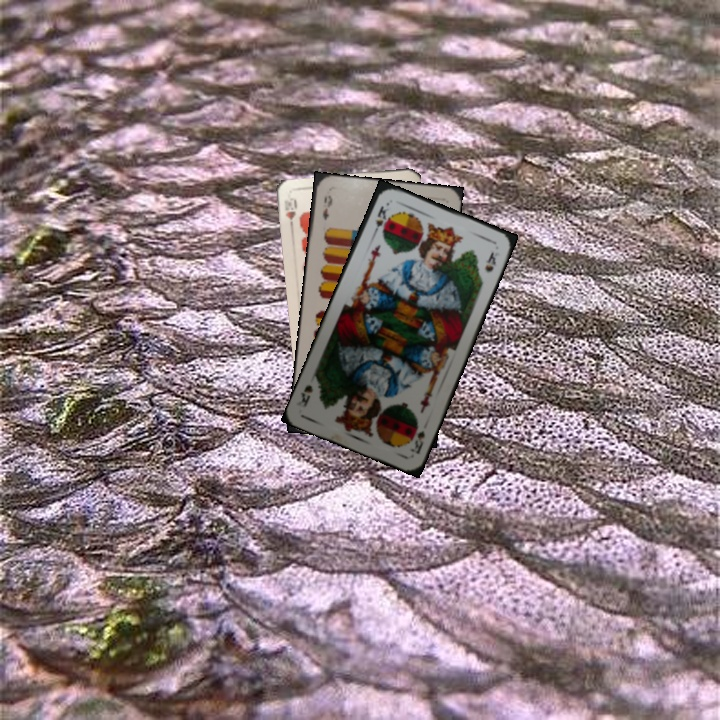E9: (318, 191, 335, 223)
H10: (280, 195, 299, 233)
SK: (405, 421, 428, 457), (369, 202, 391, 238)
